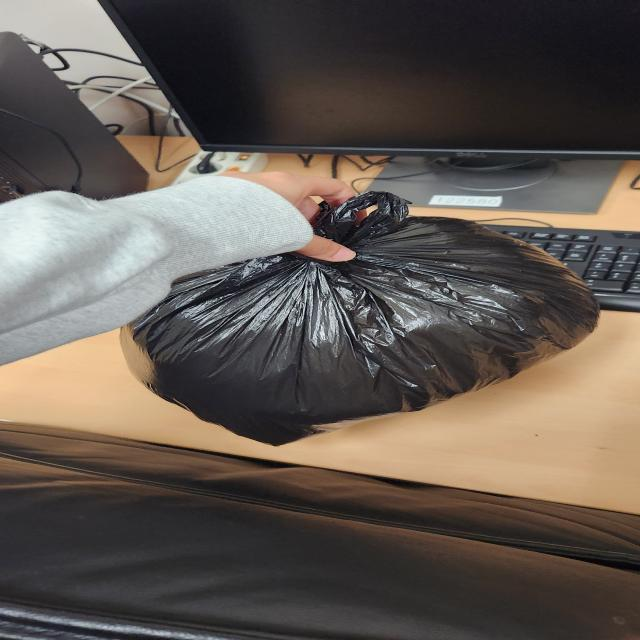black_bag: (116, 192, 602, 447)
